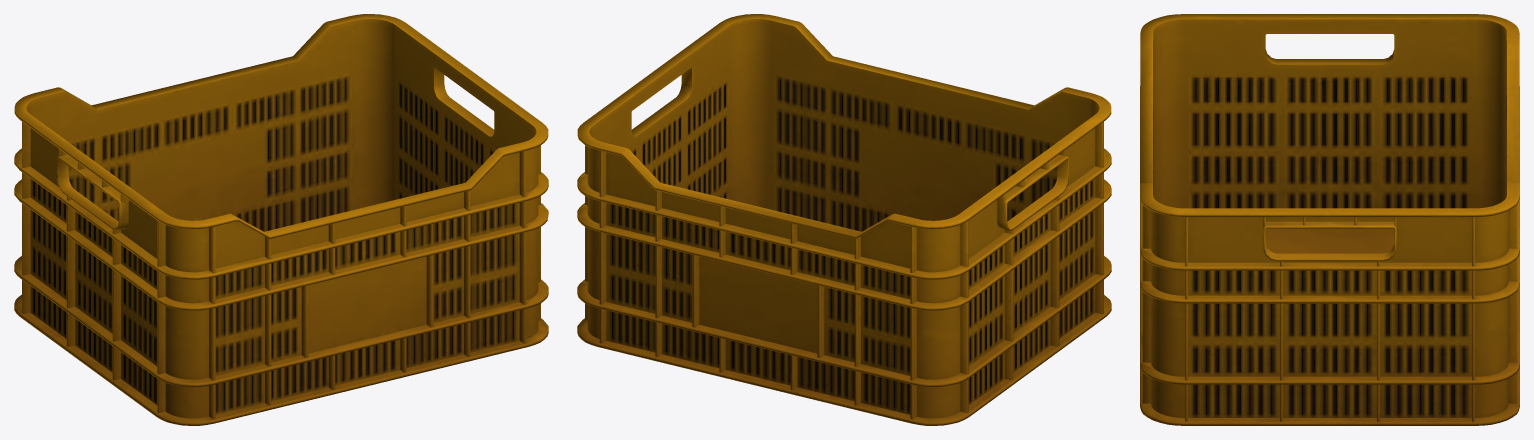
Rendered from plastic_crate_02.glb.
3 views of the same model, side by side, from view 1: azimuth 30°, elevation 25°; view 2: azimuth 150°, elevation 25°; view 3: azimuth 270°, elevation 25° (orthographic). The views are drawn at different scales.
Parts seen in each view (by area): view 1: plastic_crate_02; view 2: plastic_crate_02; view 3: plastic_crate_02.
Part boxes in pixels (x1,y1,x2,y2): plastic_crate_02: (14,14,548,425); plastic_crate_02: (577,14,1111,425); plastic_crate_02: (1140,14,1519,425).
Bounding box in the file's own units: 0.5055 × 0.2541 × 0.4055.
Materials: 1 (1 with a texture image).
